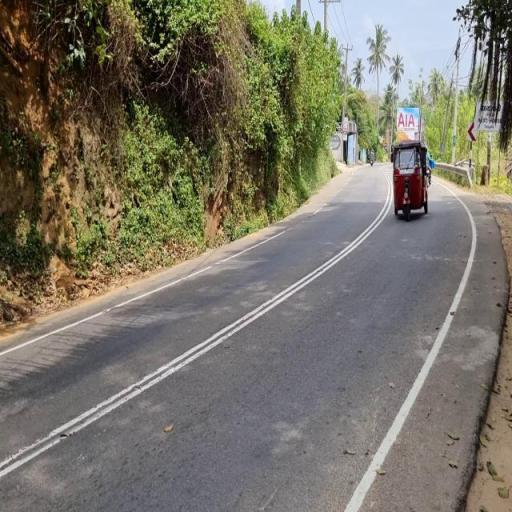double_white_line: (0, 184, 386, 489)
